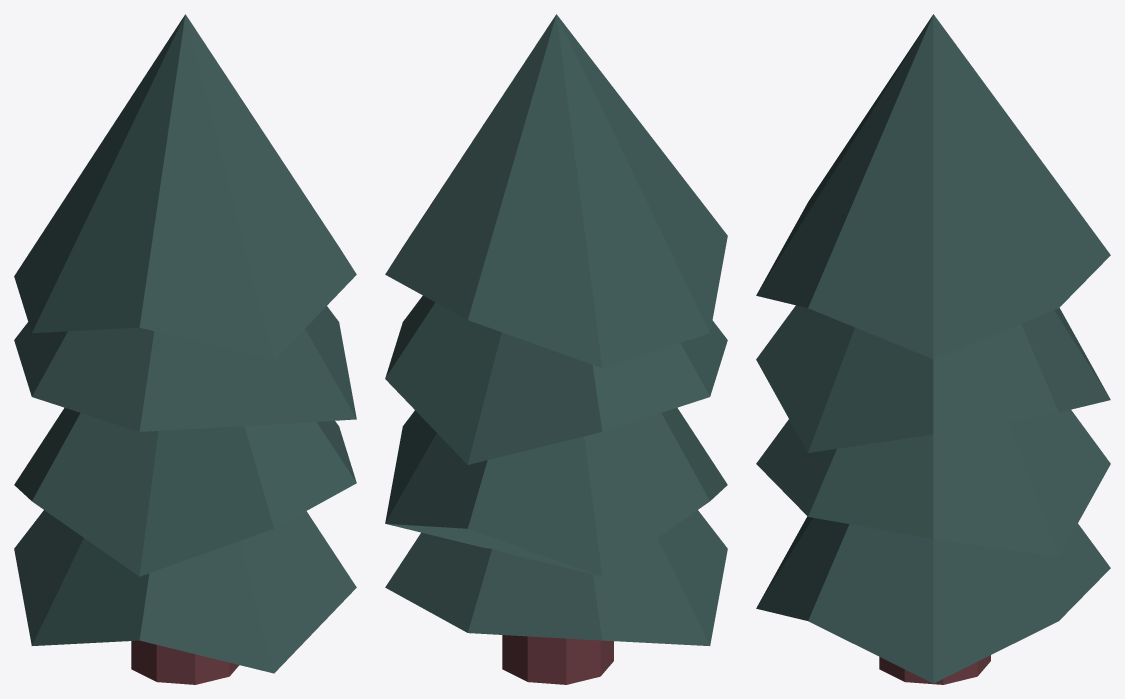
Rendered from pine 3-2.gltf.
3 views of the same model, side by side, from view 1: azimuth 30°, elevation 25°; view 2: azimuth 150°, elevation 25°; view 3: azimuth 270°, elevation 25° (orthographic).
Visible parts, largest first — view 1: Cone.042, Cone.044, Cone.045, Cone.043, Cylinder.010; view 2: Cone.042, Cone.044, Cone.043, Cone.045, Cylinder.010; view 3: Cone.042, Cone.045, Cone.044, Cone.043, Cylinder.010.
Part boxes in pixels (bbox=[...]): Cone.042: bbox=[14, 14, 356, 360]; Cone.044: bbox=[14, 407, 356, 576]; Cone.045: bbox=[14, 510, 356, 673]; Cone.043: bbox=[14, 306, 356, 431]; Cylinder.010: bbox=[131, 640, 239, 684]; Cone.042: bbox=[385, 14, 727, 367]; Cone.044: bbox=[385, 407, 727, 576]; Cone.043: bbox=[385, 295, 727, 464]; Cone.045: bbox=[385, 510, 727, 645]; Cylinder.010: bbox=[502, 635, 613, 684]; Cone.042: bbox=[756, 14, 1110, 359]; Cone.045: bbox=[756, 516, 1110, 683]; Cone.044: bbox=[756, 409, 1110, 557]; Cone.043: bbox=[756, 305, 1110, 452]; Cylinder.010: bbox=[879, 655, 990, 684].
Bounding box in the file's own units: 6.17 × 12.41 × 6.17.
1 material, 1 textured.
